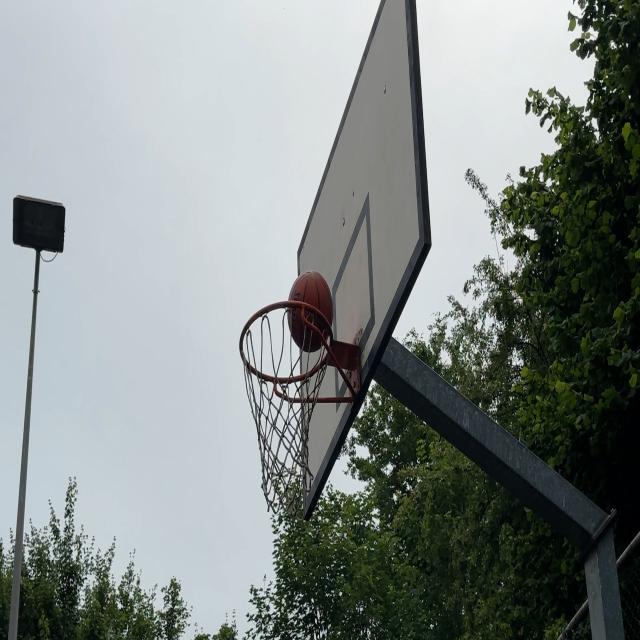rebound_hit: (287, 273, 334, 353)
